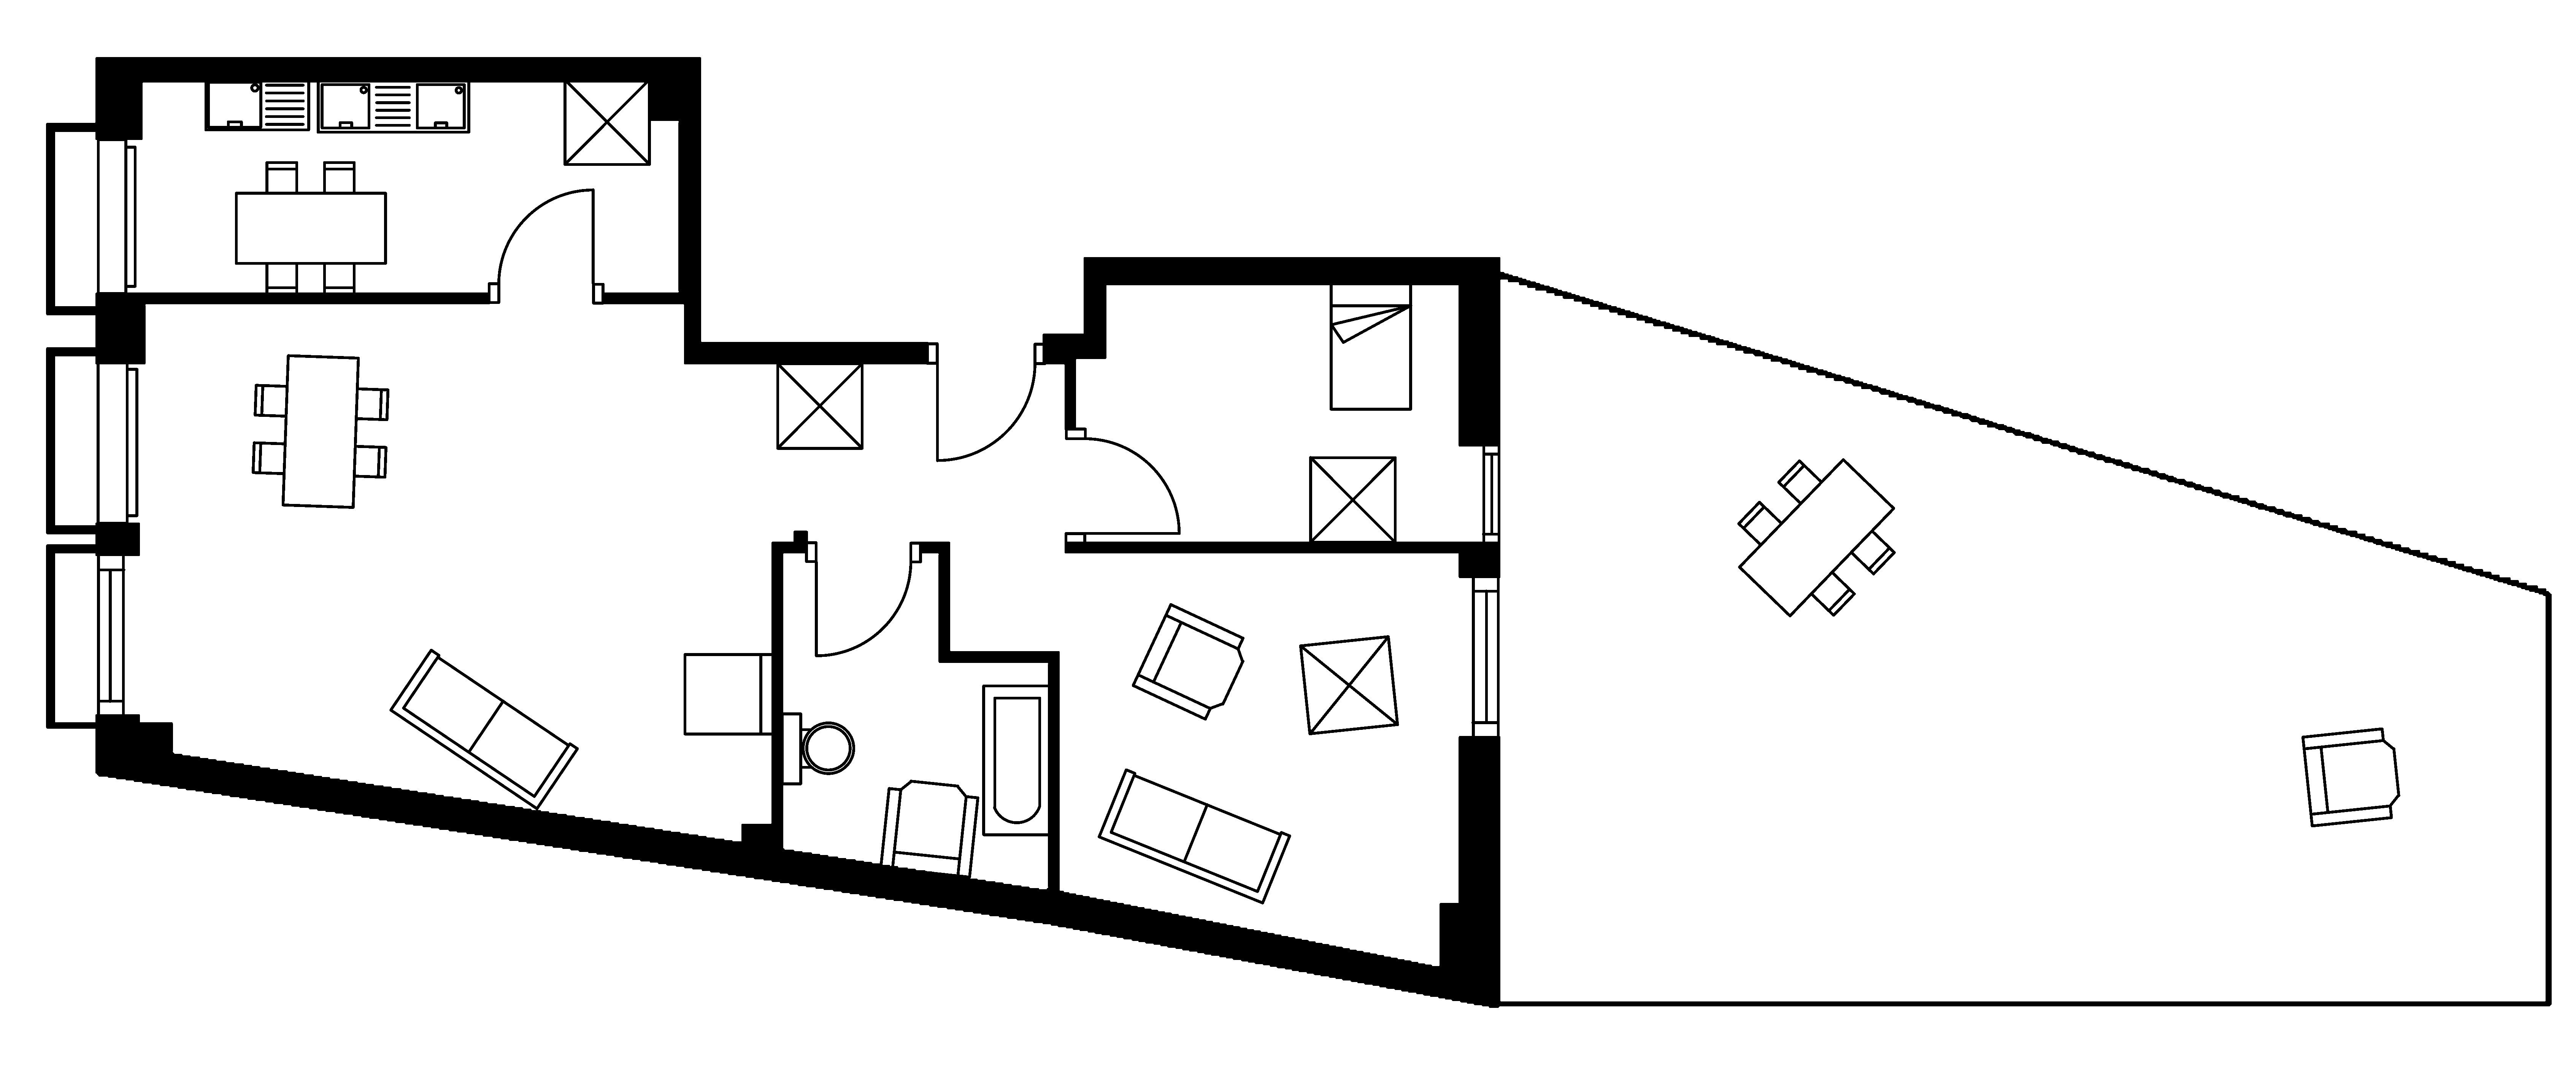armchair: (1130, 602, 1245, 720), (2300, 727, 2400, 827), (879, 779, 979, 878)
bed: (1329, 281, 1413, 411)
coffee_table: (1298, 635, 1400, 735), (562, 77, 651, 166), (775, 362, 864, 451), (1308, 456, 1396, 544)
dining_table: (1736, 457, 1896, 618), (251, 354, 389, 508), (233, 160, 388, 296)
large_sink: (780, 712, 854, 786)
large_sofa: (389, 648, 578, 811), (1097, 768, 1291, 904)
sink: (204, 77, 310, 132)
small_sofa: (682, 653, 774, 735)
tub: (981, 684, 1051, 837)
twin_sink: (315, 77, 470, 133)
